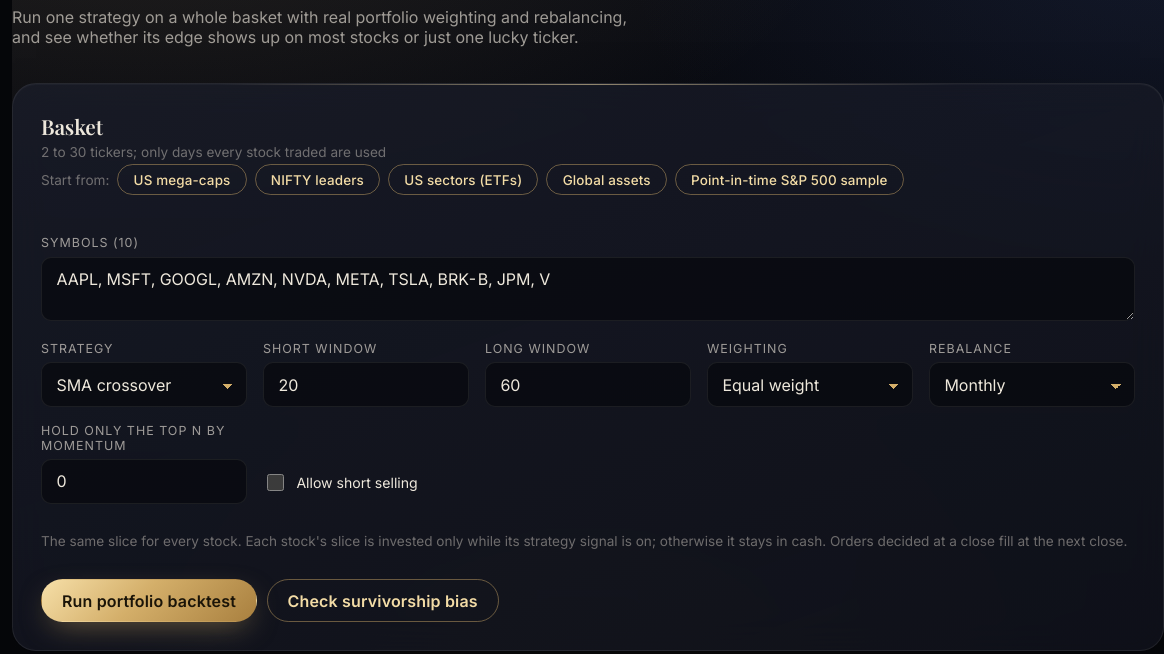
Test case: survivorship tools › draws a point-in-time sample and flags stocks that joined the index later
Step 1. Click the button "Point-in-time S&P 500 sample" → (789, 180), box [675,164,904,195]
(page scrolled)
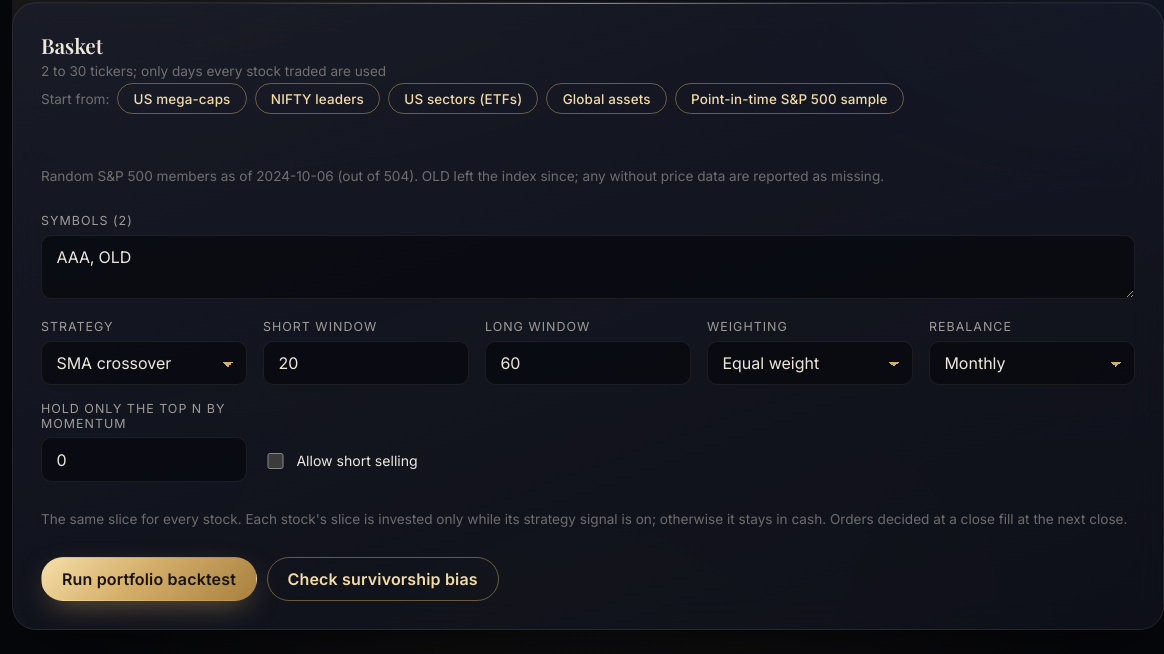
Check: the text "OLD left the index since" is shown, box [41,168,884,184]
Check: the text box labelled "Symbols (2)" holds "AAA, OLD", box [41,235,1135,299]
Step 2. Click the button "Check survivorship bias" → (383, 579), box [267,557,499,601]
(page scrolled)
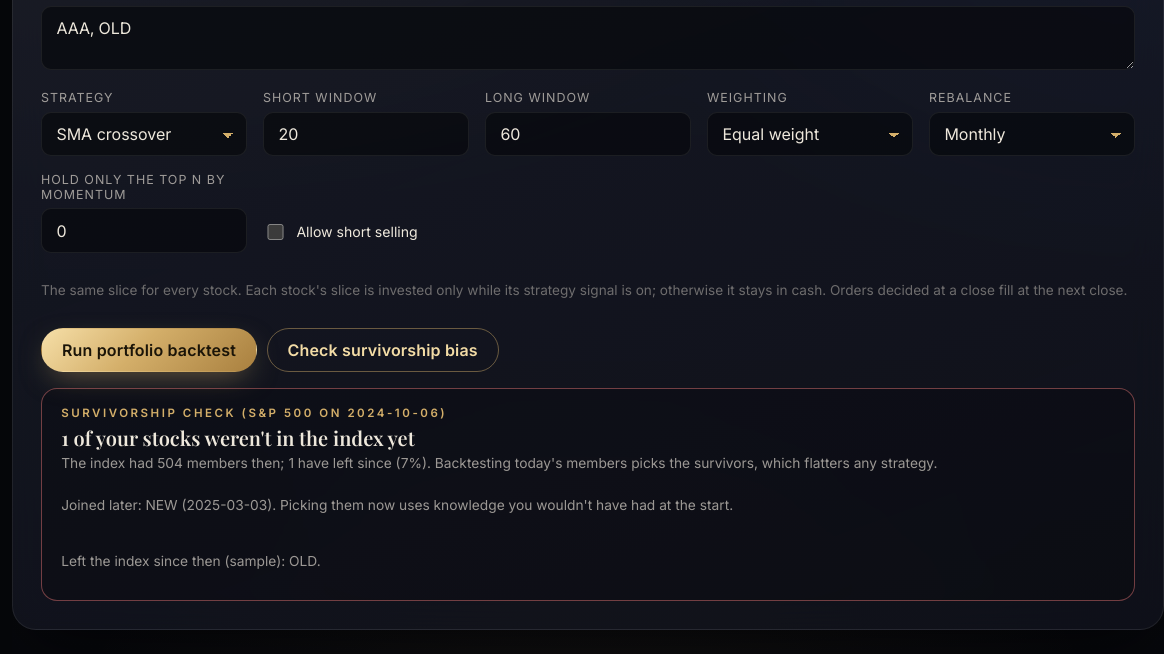
Check: the text "1 of your stocks weren't in the index yet" is shown, box [61,424,415,451]
